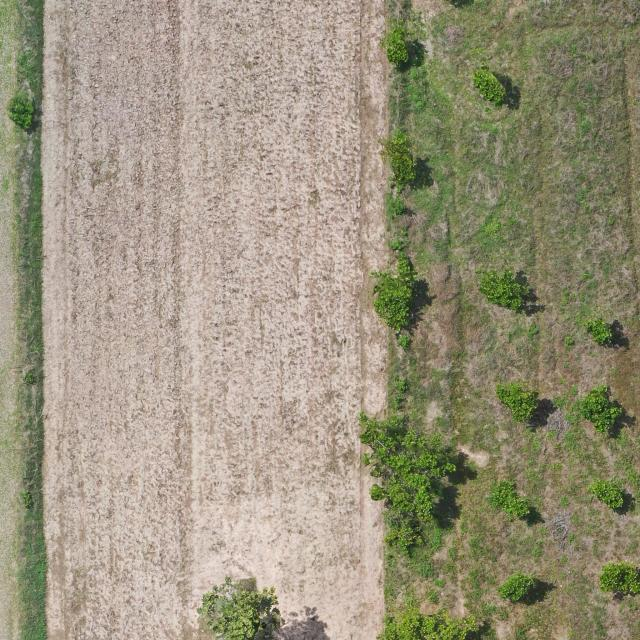Tree: (356, 410, 458, 524), (196, 574, 284, 640), (374, 606, 481, 640), (370, 269, 424, 335), (474, 267, 531, 311), (380, 126, 417, 192), (580, 383, 624, 435), (494, 382, 540, 422), (490, 478, 533, 519), (599, 561, 640, 596), (471, 68, 508, 105), (6, 92, 37, 134), (386, 19, 411, 69), (498, 571, 534, 604), (587, 479, 625, 510), (584, 317, 614, 345)
